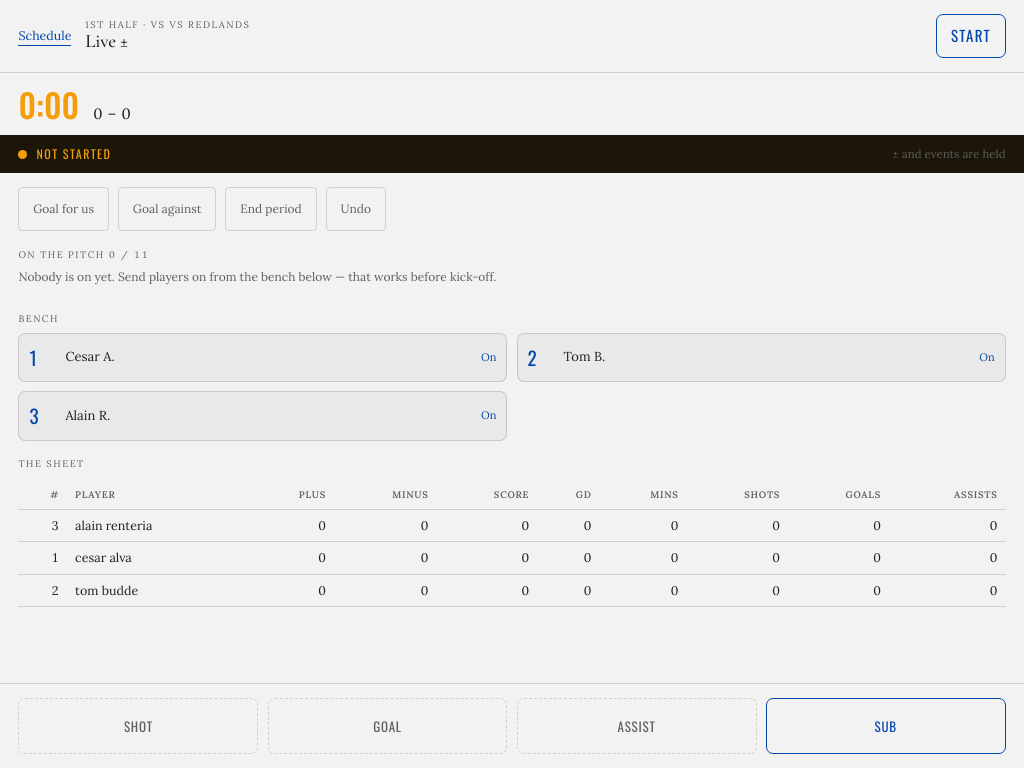
Test: the clock › counts a team goal into the score
Click the button "Start".
click(971, 36)  # box [936,14,1006,58]
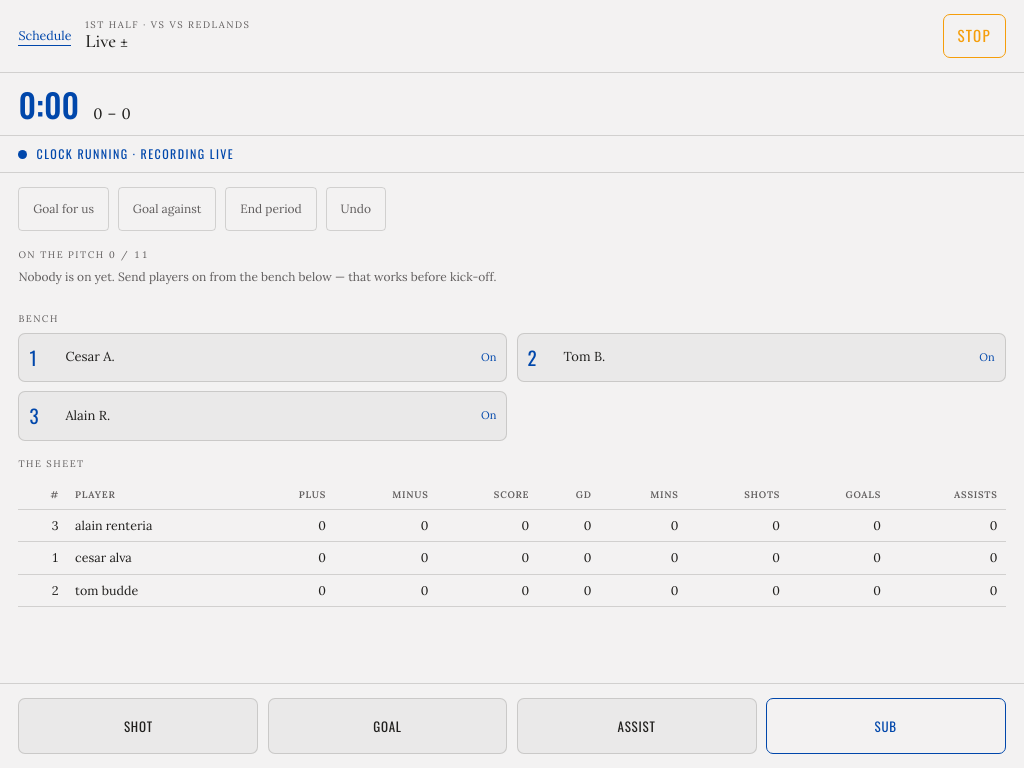
Click the button "Goal for us".
click(64, 209)  # box [18,187,109,231]
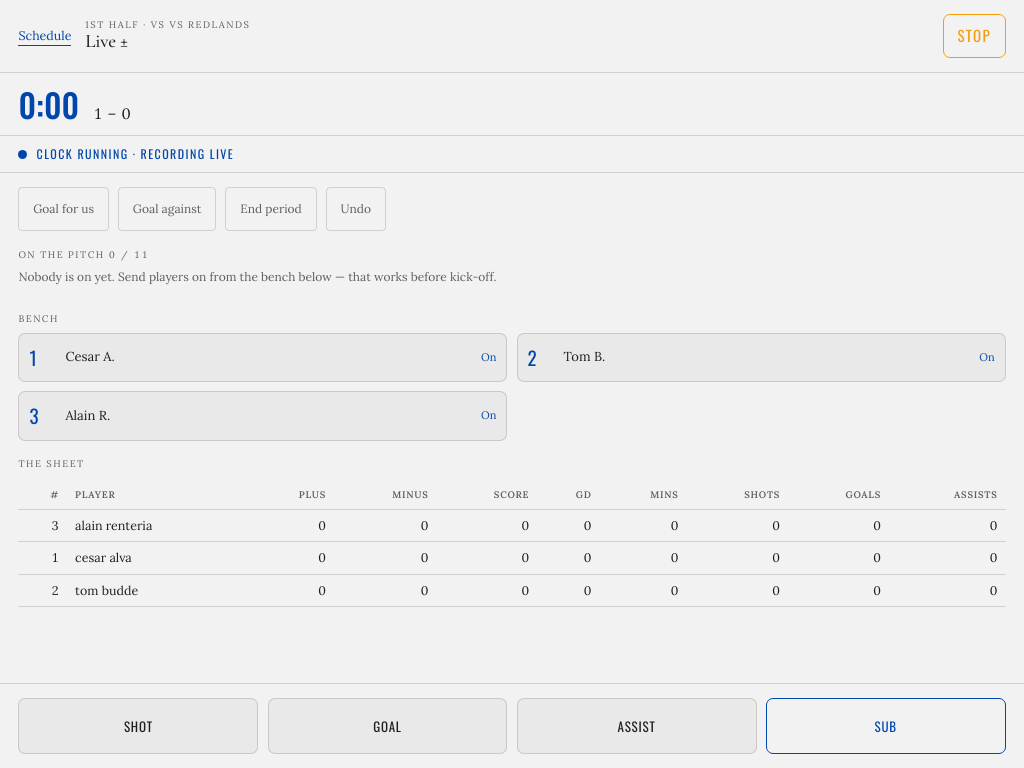
expect the text "1 – 0" is shown: met, box [93,102,131,126]
